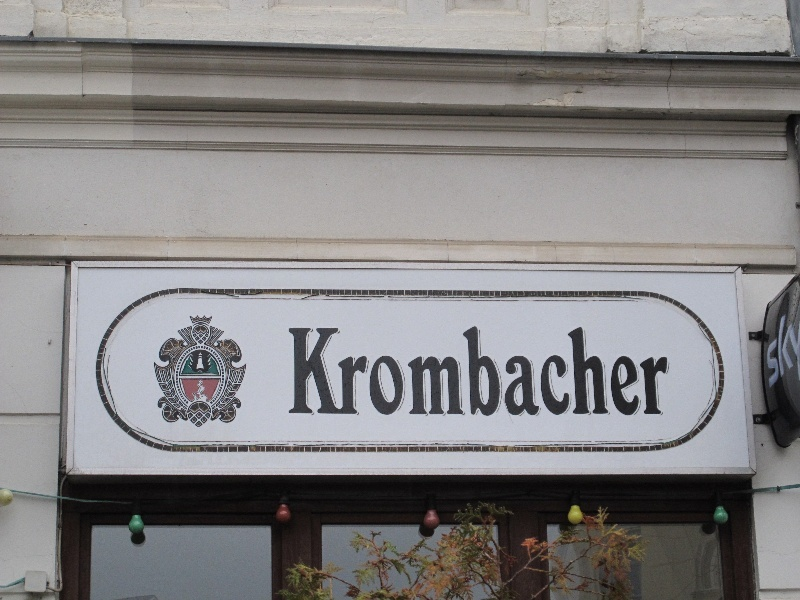text: (289, 326, 304, 416), (305, 326, 320, 416), (321, 326, 336, 416), (337, 326, 352, 416), (353, 326, 368, 416), (369, 326, 384, 416), (385, 326, 400, 416), (401, 326, 416, 416), (417, 326, 432, 416), (433, 326, 448, 416), (449, 326, 464, 416), (465, 326, 480, 416), (481, 326, 496, 416), (497, 326, 512, 416), (513, 326, 528, 416), (529, 326, 544, 416), (545, 326, 560, 416), (561, 326, 576, 416), (577, 326, 592, 416), (593, 326, 608, 416), (609, 326, 624, 416), (625, 326, 640, 416), (641, 326, 656, 416), (657, 326, 671, 416), (769, 310, 784, 389), (785, 310, 800, 389), (765, 310, 768, 389)
